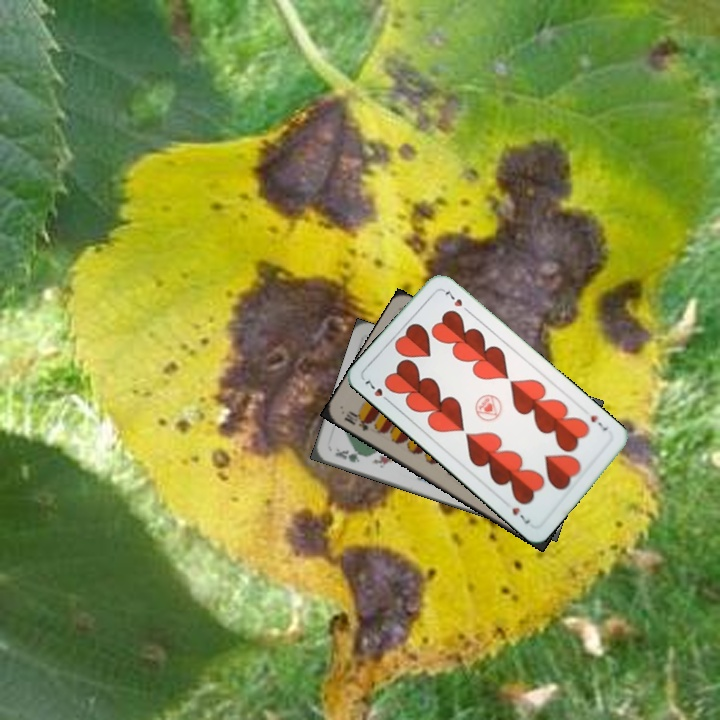E10: (340, 406, 374, 434)
GK: (331, 444, 369, 465)
H7: (361, 375, 394, 406), (586, 411, 610, 433)
